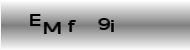9: (97, 17, 110, 31)
E: (27, 13, 42, 27)
M: (43, 20, 61, 36)
f: (67, 19, 76, 33)
i: (109, 19, 116, 32)
